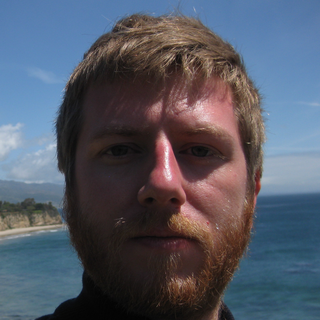eye: (172, 138, 232, 169), (87, 140, 147, 167)
